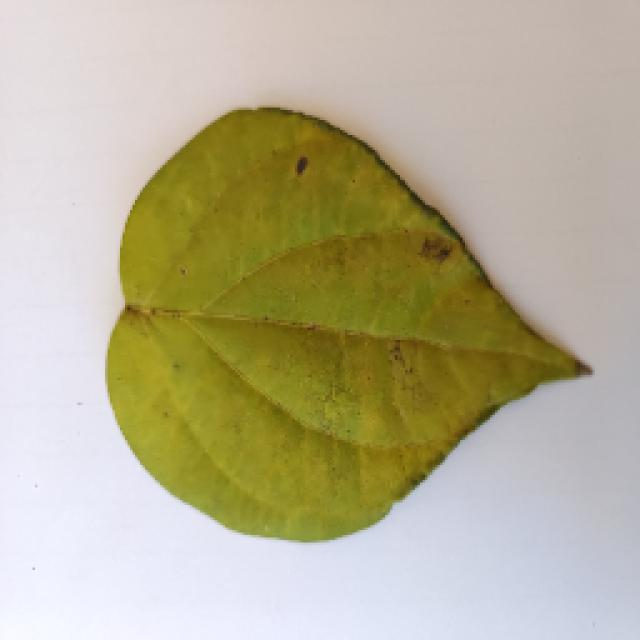slow-decline: (83, 107, 605, 545)
